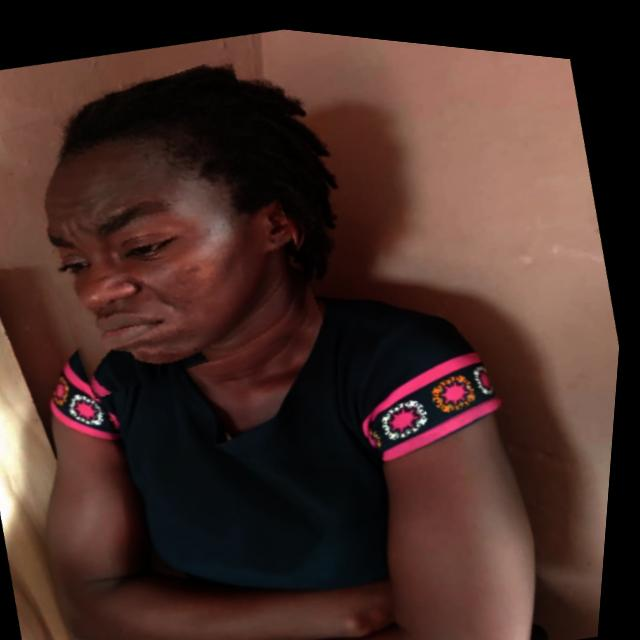happy: (0, 33, 339, 414)
